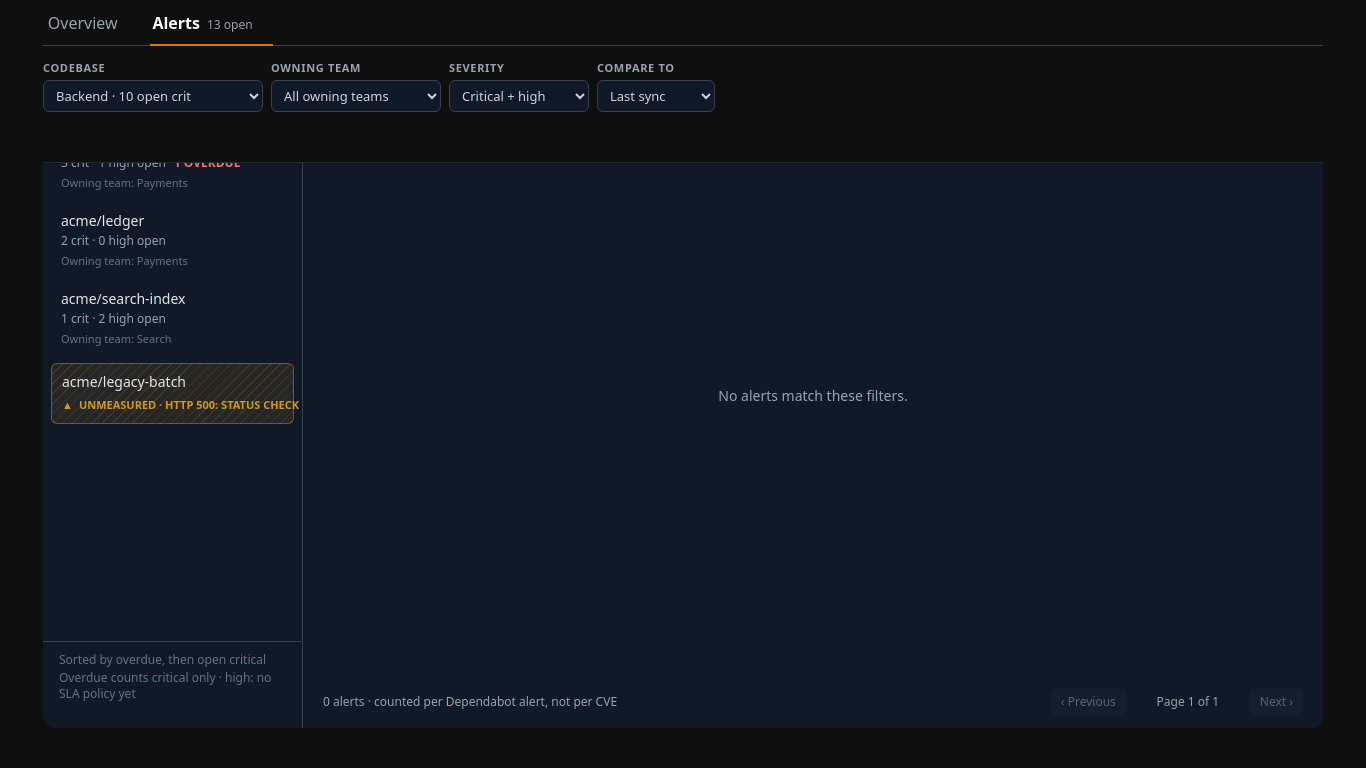
selecting a repository from the rail › an unmeasured rail row opens the drawer and does not touch the URL
(page scrolled)
Click the button with test id "rail-unmeasured" at [172, 394], box [51,363,294,424]
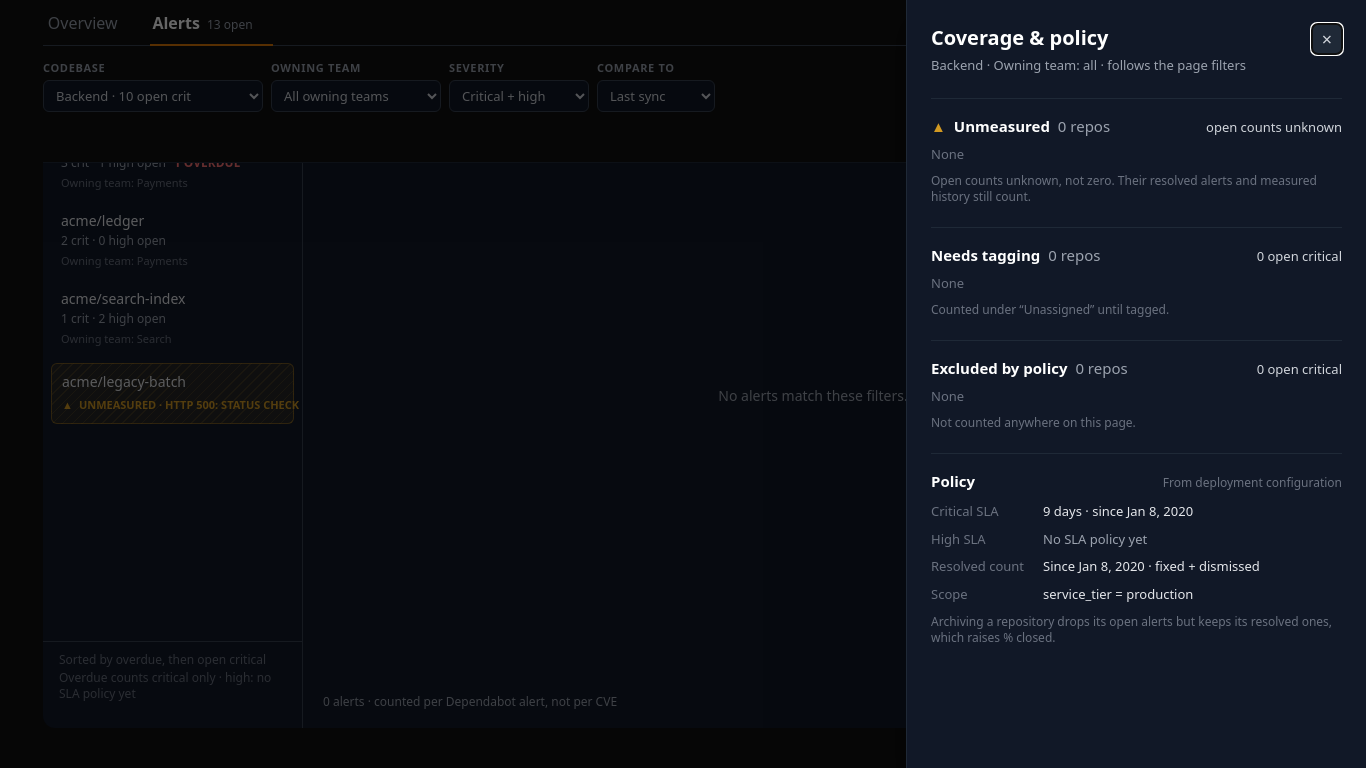
Now the dialog is shown, box [906,0,1365,767]
